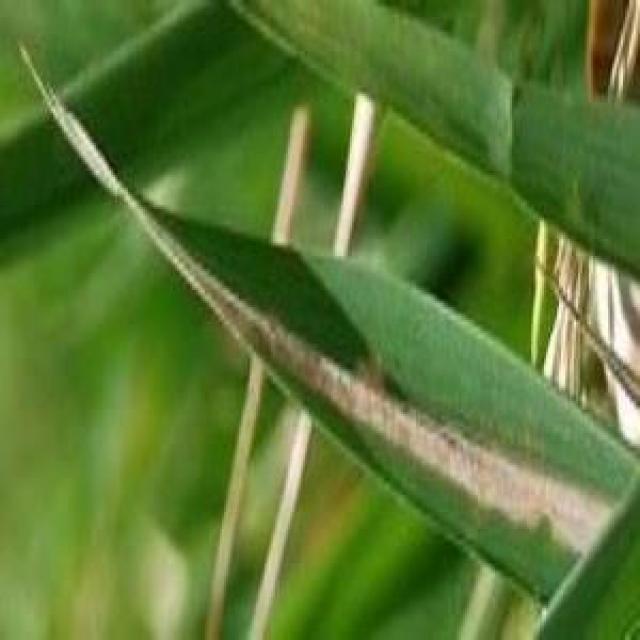leaf blight: (205, 258, 606, 563)
